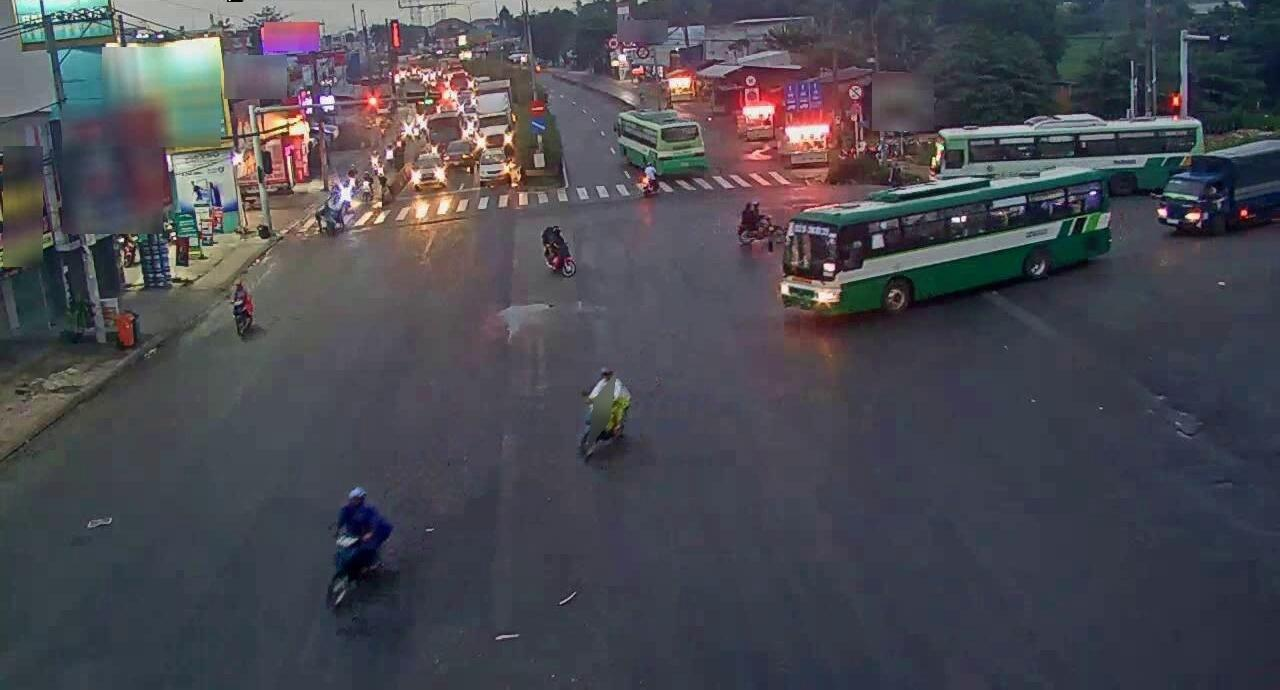xe buyt: (786, 166, 1107, 321)
xe may: (324, 484, 388, 608), (575, 363, 629, 461), (539, 227, 576, 282), (233, 291, 257, 340)
